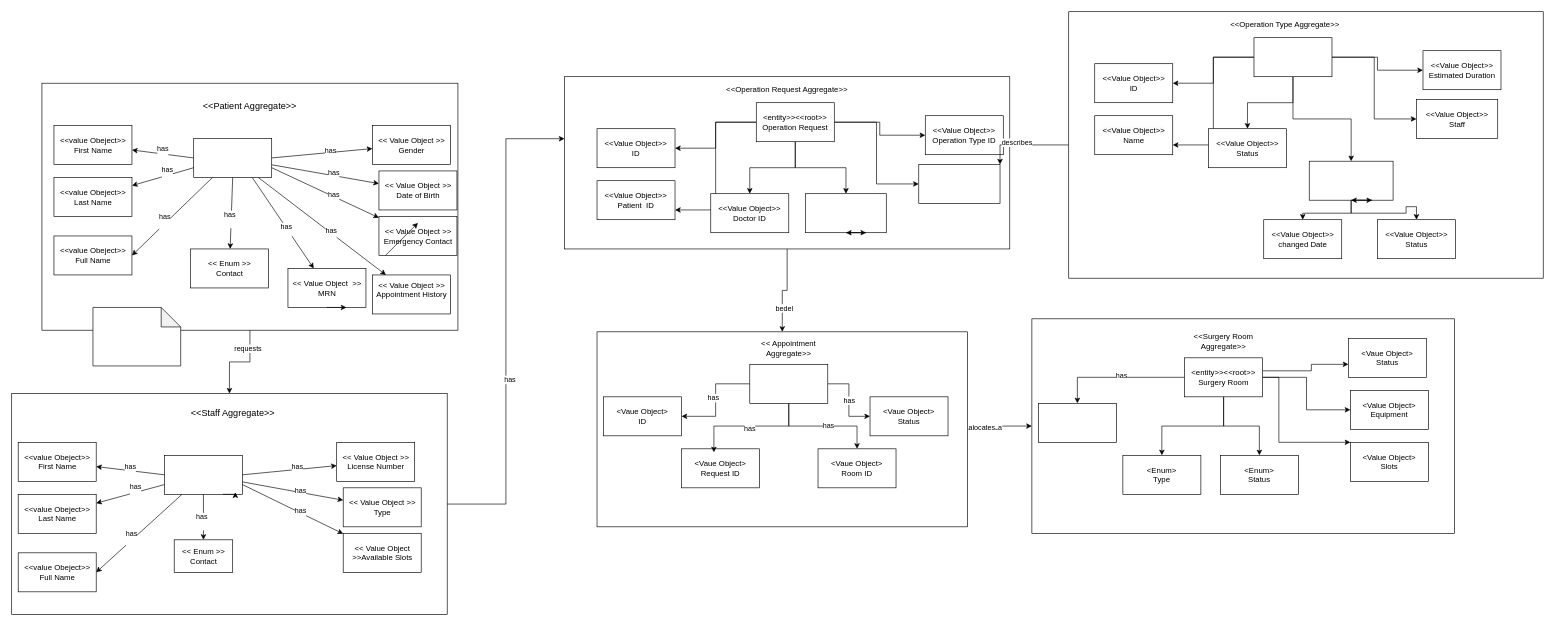
Image size: 1555x626. Some labels were removed from this diagram. Each missing label, with the box of its shape:
<<entity>> <<root>> Patient: (193, 138, 272, 177)
<<entity>> <<root>> Staff: (164, 455, 242, 494)
<<Entity>> Date: (1309, 161, 1393, 200)
<<Enum>> Priority: (805, 193, 886, 233)
<<Value Object>> Deadline Date: (918, 164, 1000, 203)
<entity>><<root>> Appointment: (749, 364, 828, 403)
<entity>><<root>> Operation Type: (1253, 37, 1332, 77)
<Vaue Object> Room IID: (1038, 403, 1116, 442)
Note : Contact Specified by client can either be : Email or Phone Number: (92, 307, 181, 366)
